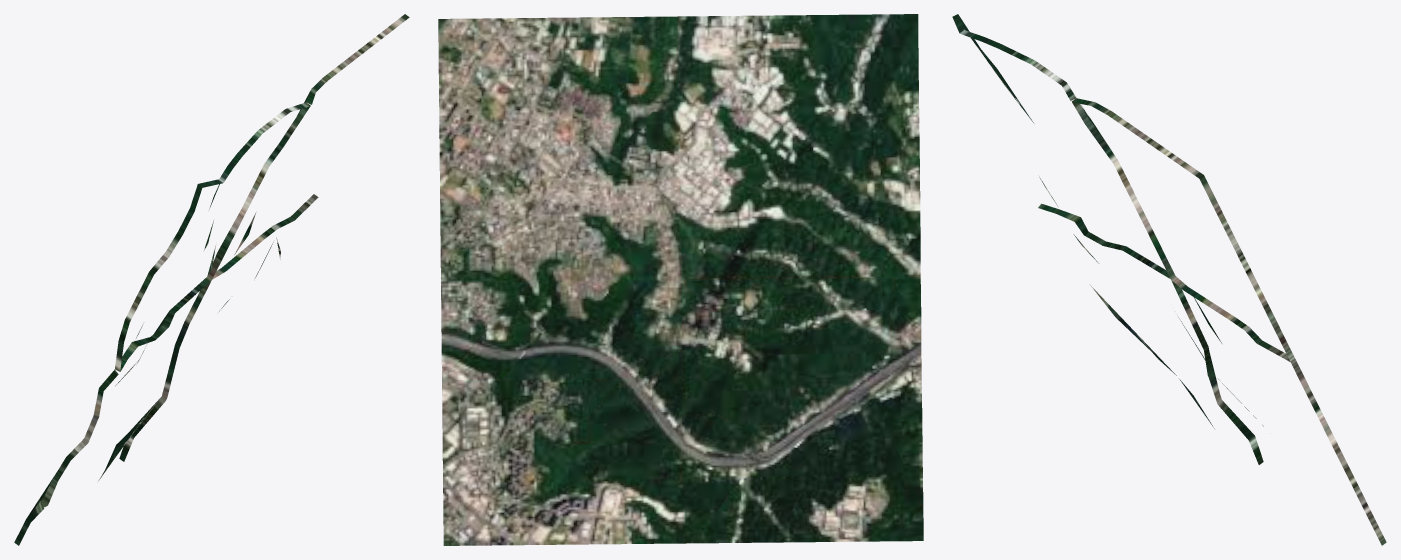
3 renders of one model, left to right at view 1: azimuth 30°, elevation 25°; view 2: azimuth 150°, elevation 25°; view 3: azimuth 270°, elevation 25°, orthographic. The views are drawn at different scales.
Size of the model in its own units: 4869 by 4484 by 4196.
Materials: 1 (1 with a texture image).
